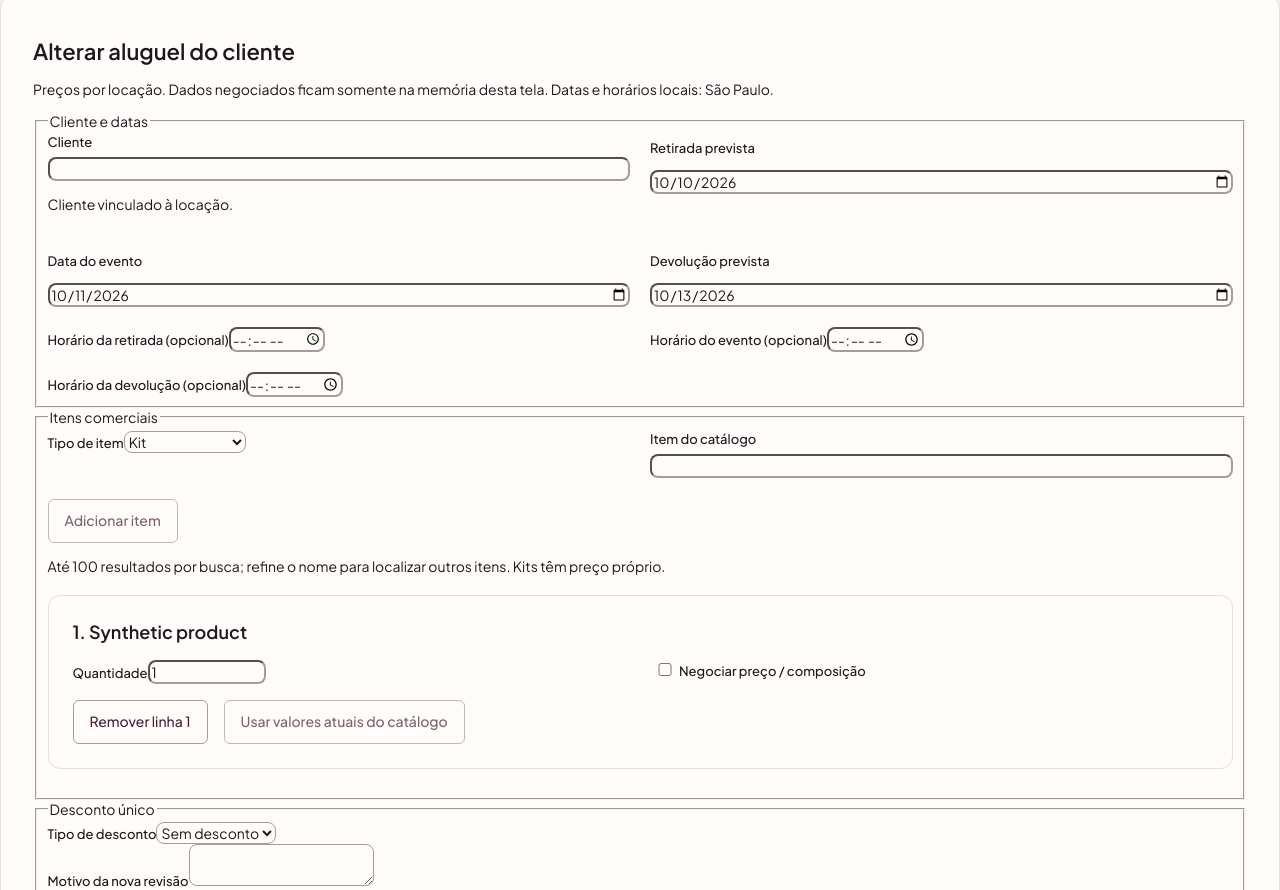
Test: does not publish partial conflict data if independent read 0 fails
Step 1. Type "Synthetic retained reason" into the text box labelled "Motivo da nova revisão" → coordinates (281, 865), box left=188, top=844, right=374, bottom=886
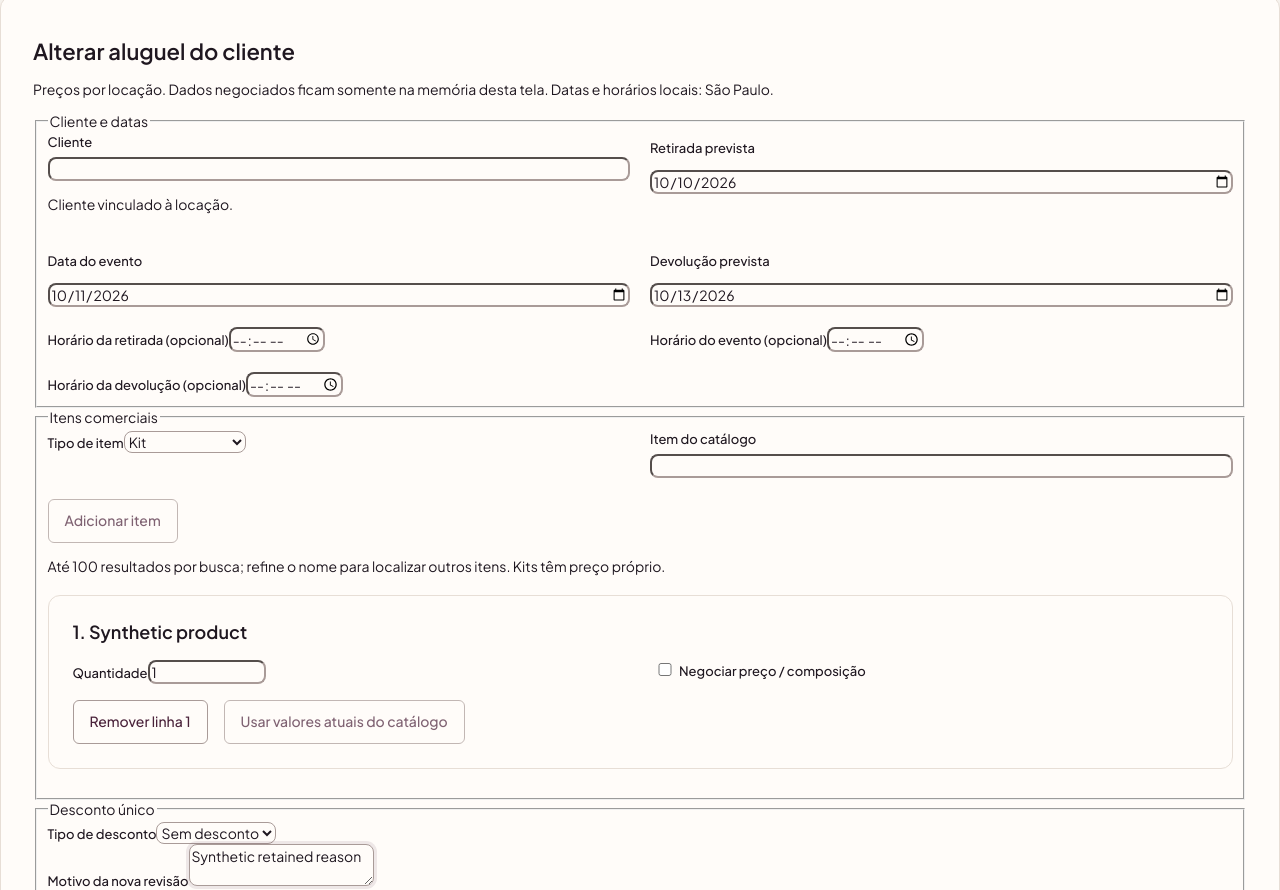
Step 2. Replace the text in the number field labelled "Quantidade" with "2" → coordinates (207, 672), box left=148, top=660, right=266, bottom=684
(page scrolled)
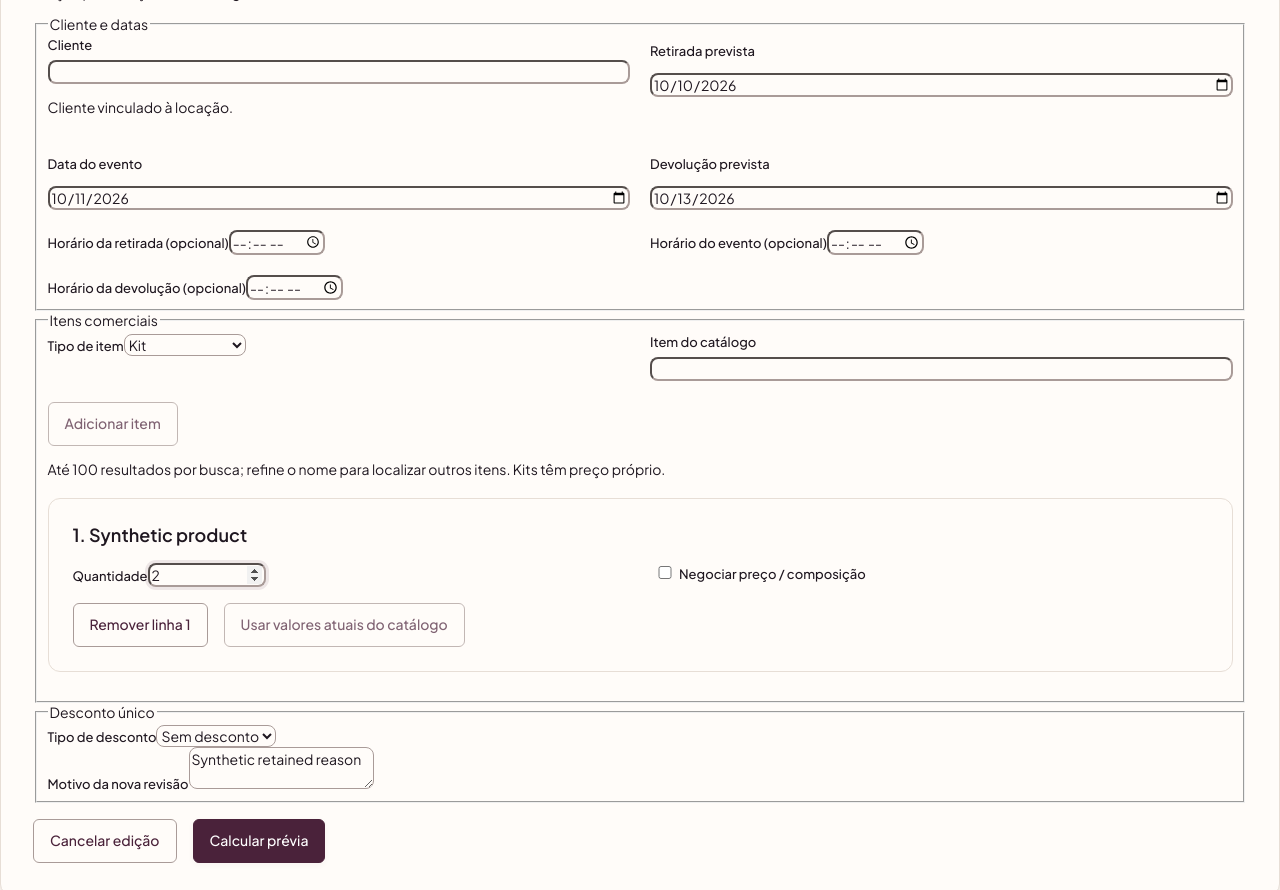
Step 3. Click the button "Calcular prévia" → coordinates (259, 841), box left=192, top=819, right=326, bottom=863
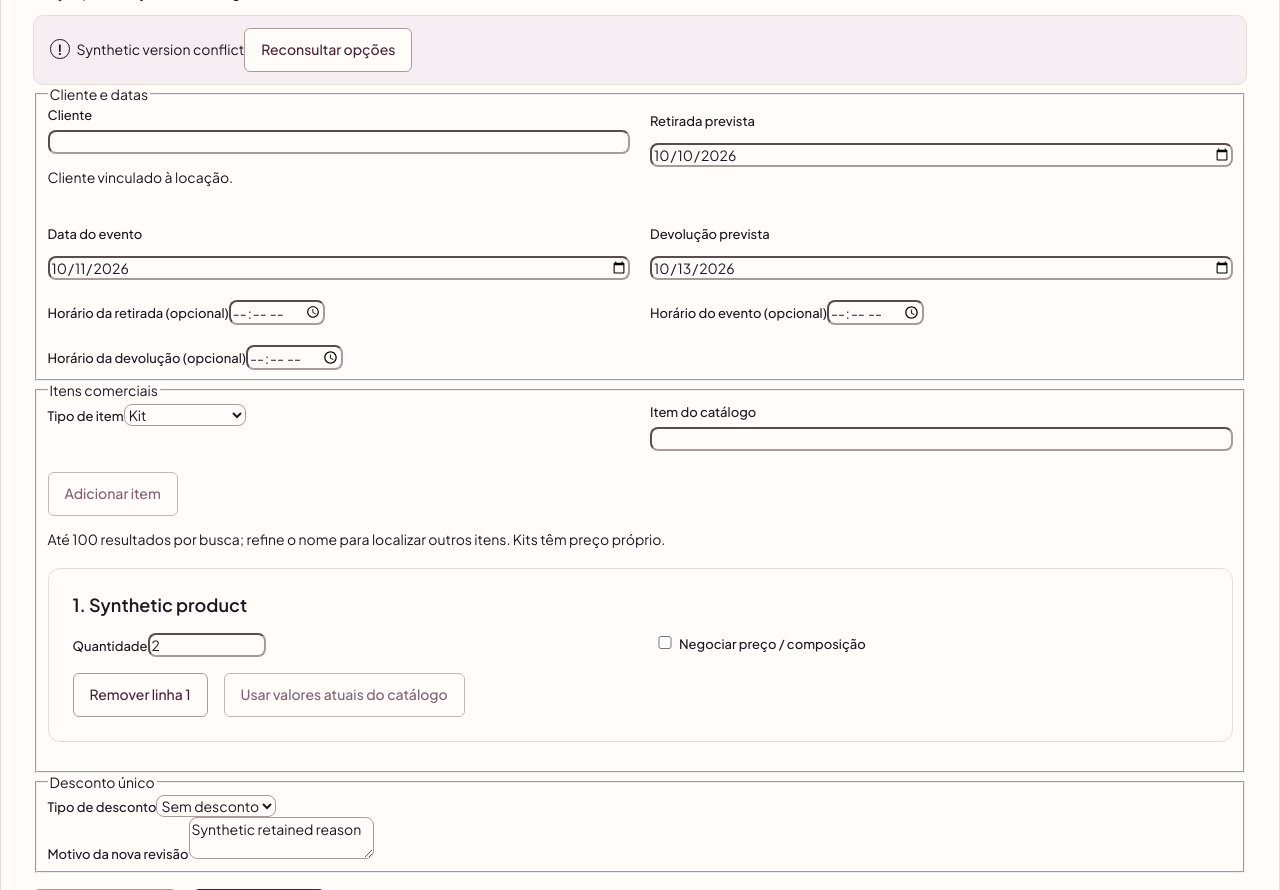
expect the message shows "Synthetic version conflict": met, box left=76, top=40, right=244, bottom=58
